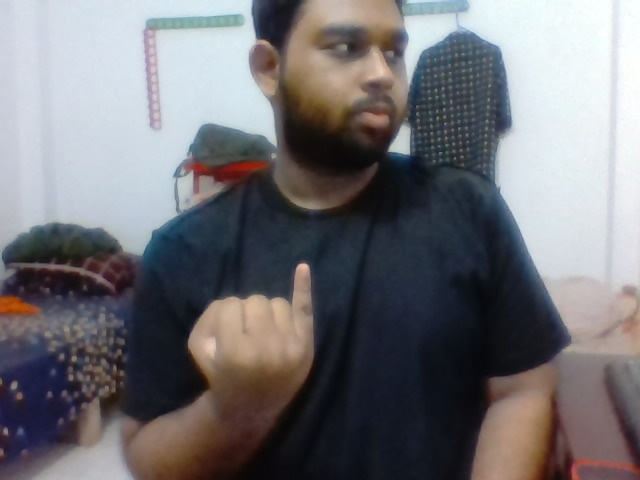I: (176, 258, 324, 424)
